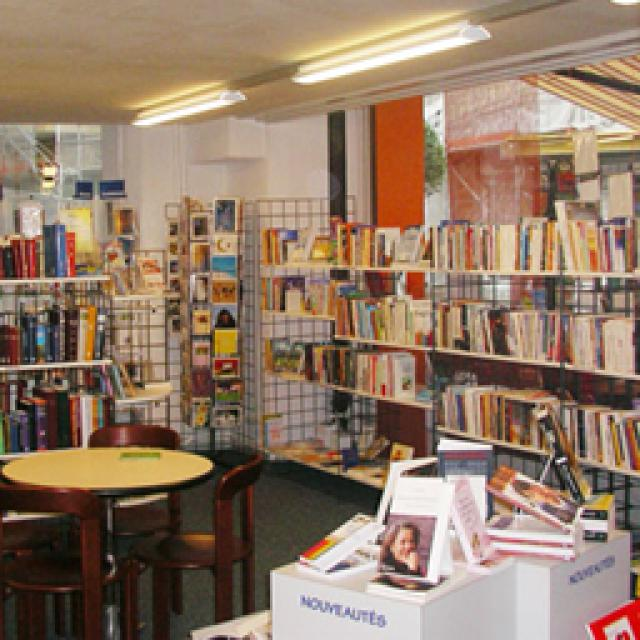2001: (340, 52, 635, 525)
book case: (485, 462, 580, 530), (298, 510, 382, 572), (372, 510, 445, 580), (435, 435, 492, 515), (208, 232, 238, 272), (212, 328, 238, 358), (212, 375, 238, 405), (210, 302, 235, 328), (188, 208, 208, 238)
bookcase crop: (260, 258, 635, 568), (0, 275, 110, 470)
books crop: (262, 195, 635, 262), (335, 292, 632, 372), (435, 380, 632, 470), (265, 335, 412, 398), (2, 302, 102, 362), (2, 222, 72, 272)
boxs: (268, 512, 628, 638)
chair -occluded-: (120, 445, 268, 638)
chair part: (85, 422, 178, 445)
display stand: (178, 202, 240, 465)
floor -X: (2, 445, 635, 635)
lamp crop: (285, 18, 488, 88), (128, 88, 245, 125)
table -X: (2, 442, 210, 635)
wall clock: (0, 115, 342, 460)
